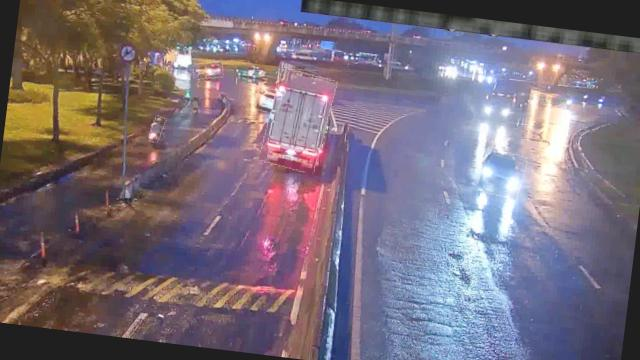Bike: (148, 115, 164, 144), (190, 96, 200, 116)
Car: (478, 148, 526, 200), (253, 86, 282, 114), (192, 60, 224, 82)
Truck: (260, 68, 334, 174), (472, 75, 540, 125)
